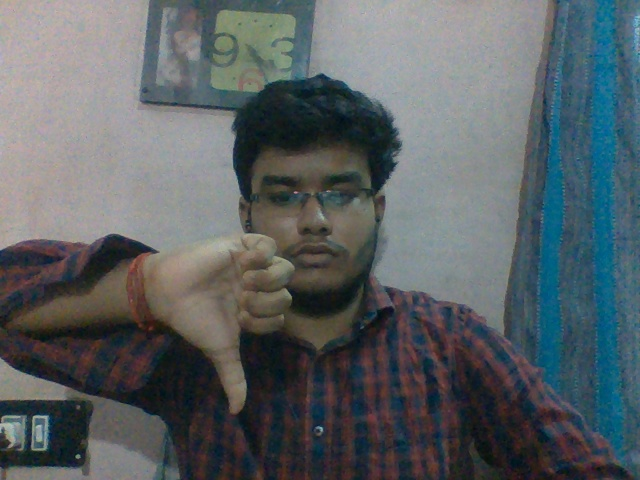ThumbsDown: (149, 232, 297, 416)
